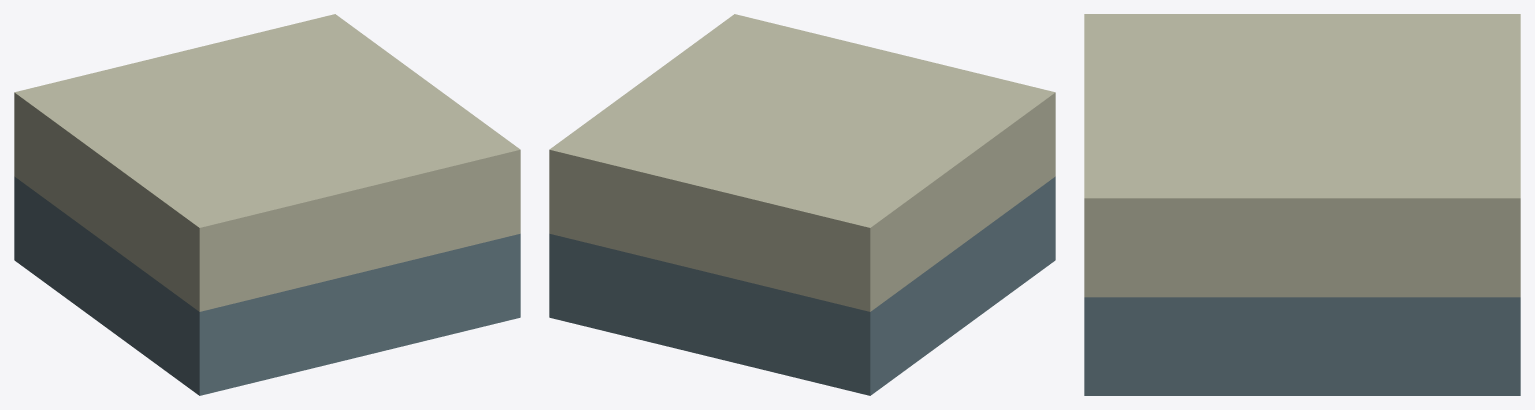
The model's file is sb03.deck.palette.glb.
3 views of the same model, side by side, from view 1: azimuth 30°, elevation 25°; view 2: azimuth 150°, elevation 25°; view 3: azimuth 270°, elevation 25° (orthographic). The views are drawn at different scales.
Parts seen in each view (by area): view 1: VW.surface.001, VW.bed.001; view 2: VW.surface.001, VW.bed.001; view 3: VW.surface.001, VW.bed.001.
Boxes of the visible parts, x1,y1,x2,y2 form: VW.surface.001: (14,14,520,311); VW.bed.001: (14,176,520,395); VW.surface.001: (549,14,1055,311); VW.bed.001: (549,176,1055,395); VW.surface.001: (1084,14,1520,297); VW.bed.001: (1084,297,1520,395).
Size of the model in its own units: 0.5 by 0.25 by 0.5.
1 material, 1 textured.
